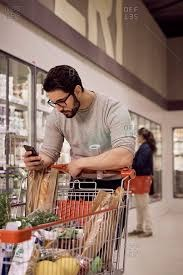with_basket: (1, 162, 129, 274)
without_mask: (45, 68, 79, 117)
